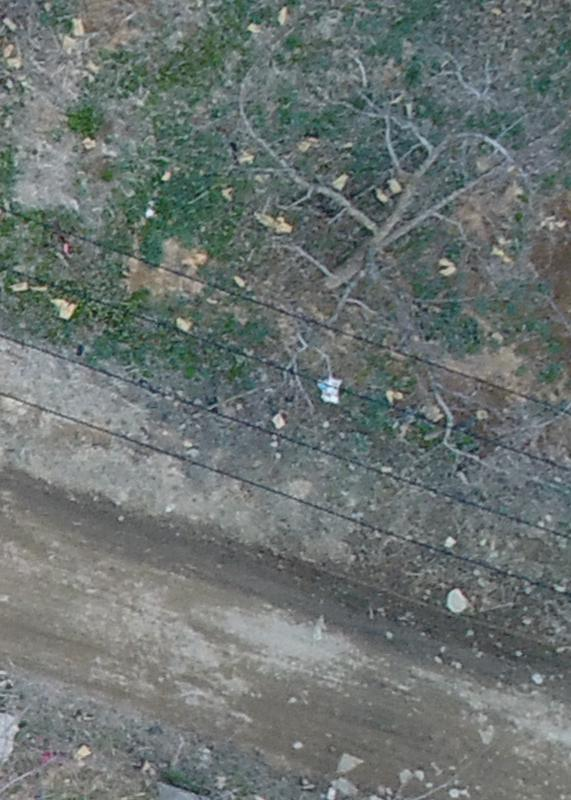apple: (222, 54, 544, 349)
